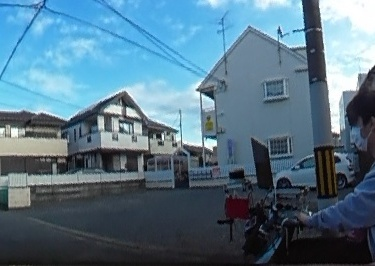person: (277, 93, 375, 266)
